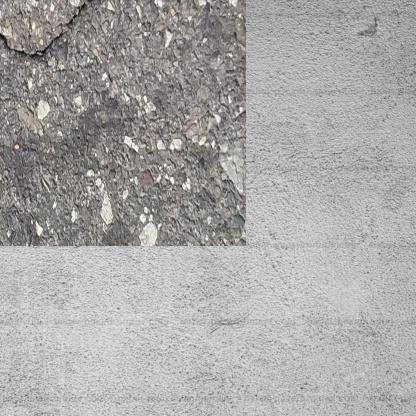Cracks: (0, 0, 107, 60)
